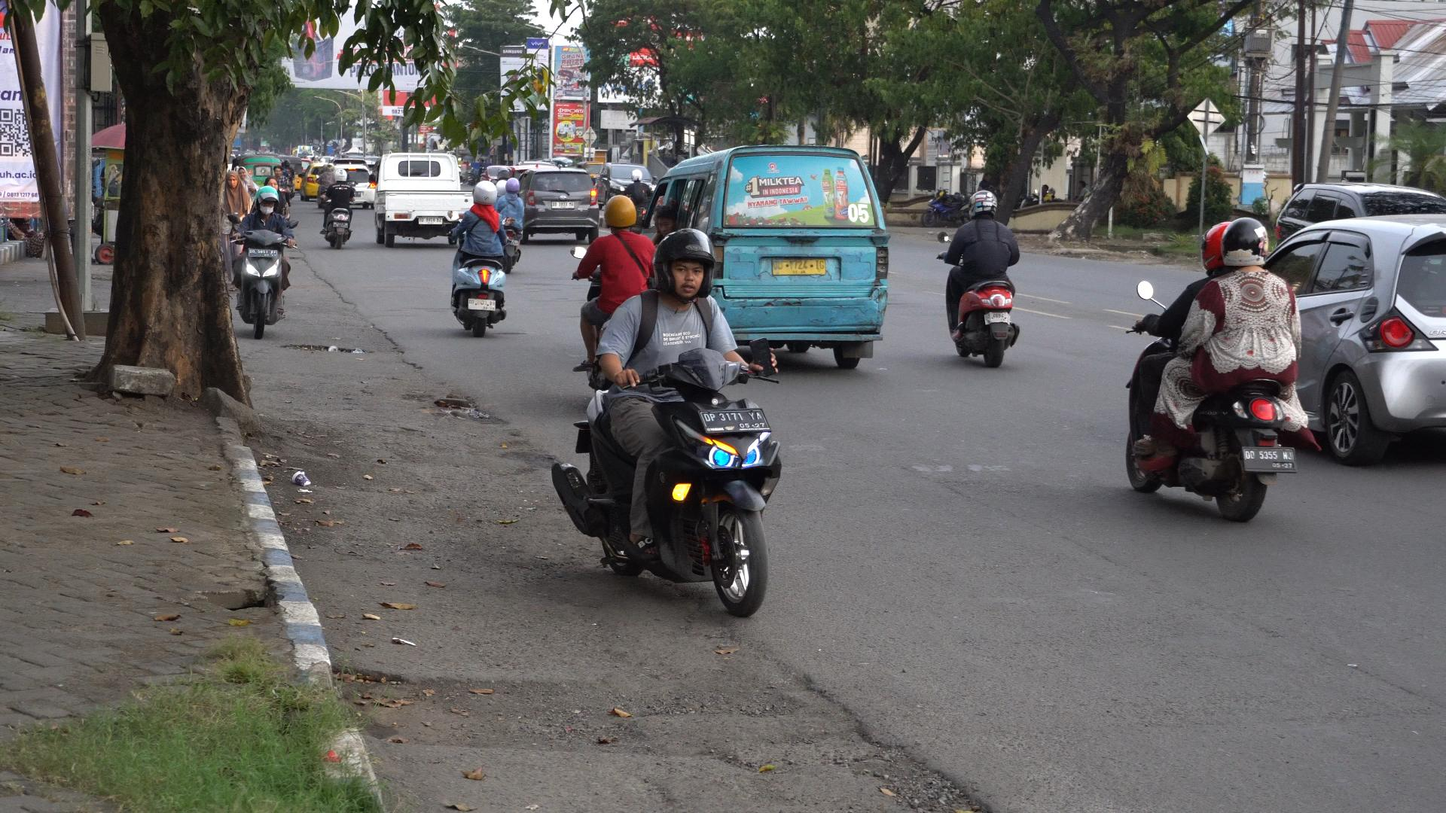number-plate: (703, 402, 773, 439), (248, 247, 279, 258)
